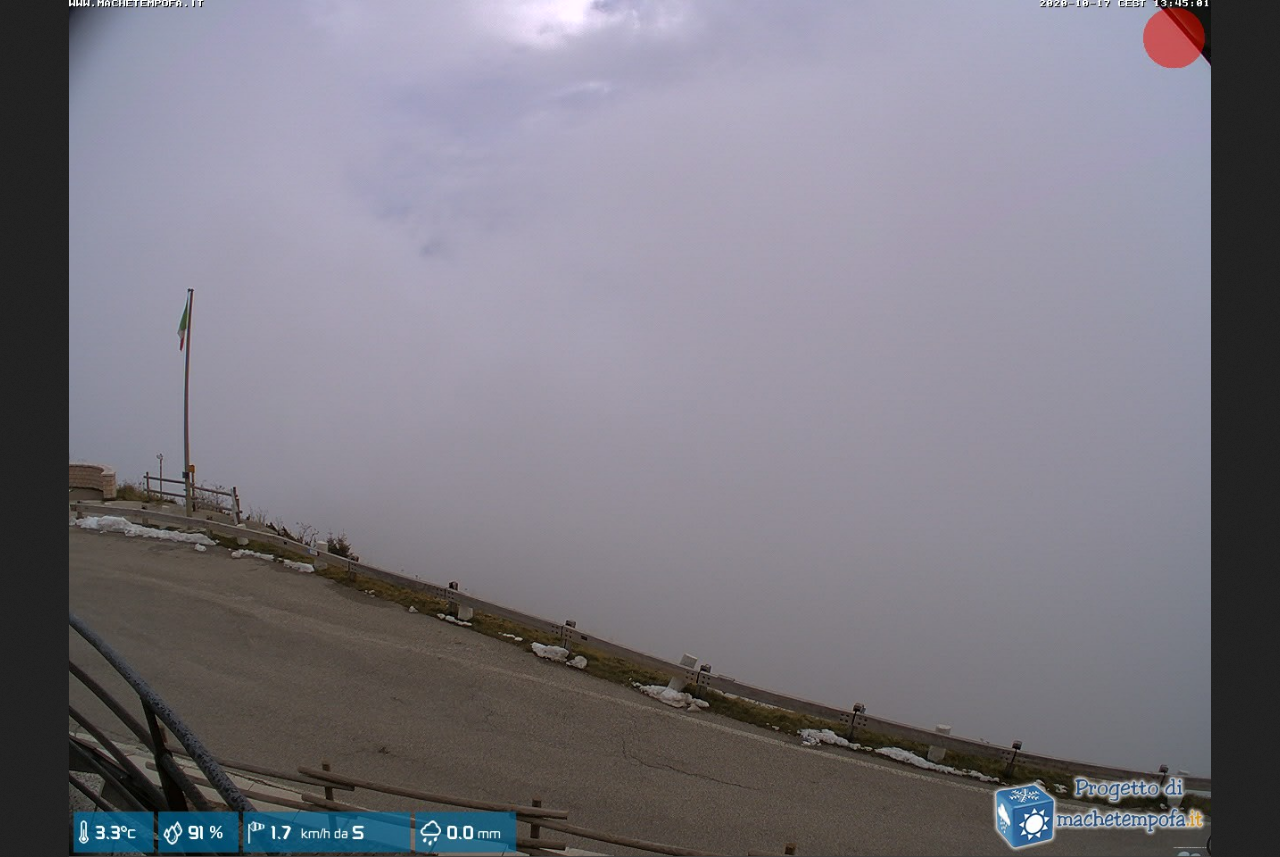no: (174, 290, 192, 355)
